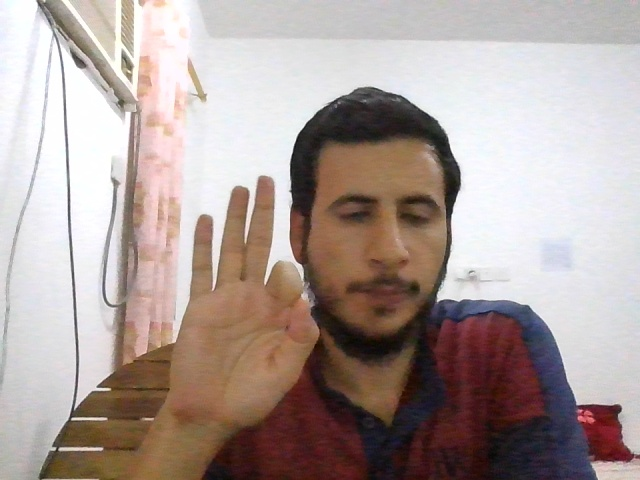Three: (169, 176, 318, 438)
